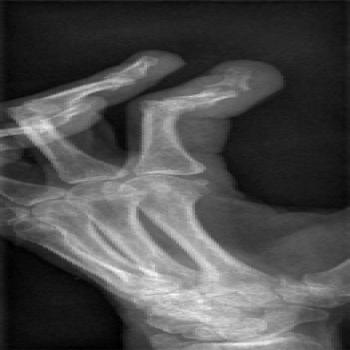Fracture: (174, 84, 266, 109)
